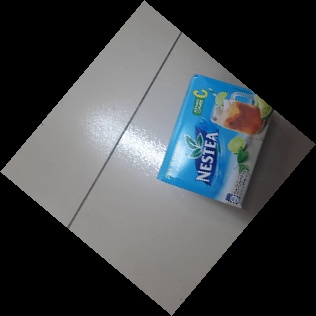Nestea: (155, 70, 280, 212)
